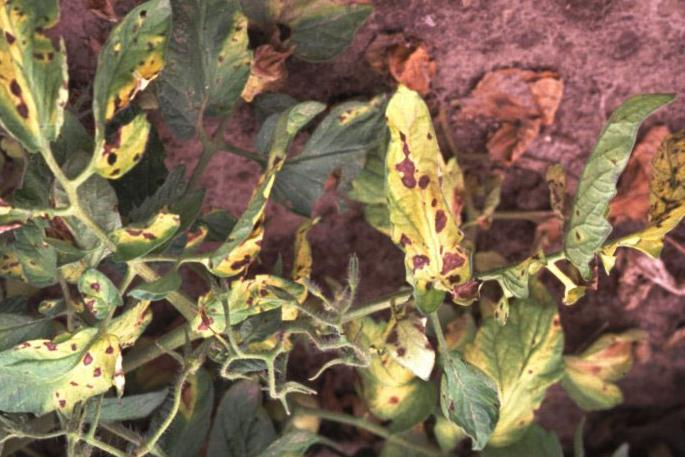Tomato Early blight leaf: (385, 89, 492, 312), (0, 309, 161, 430), (84, 0, 181, 177), (0, 0, 85, 150), (627, 111, 685, 260)
